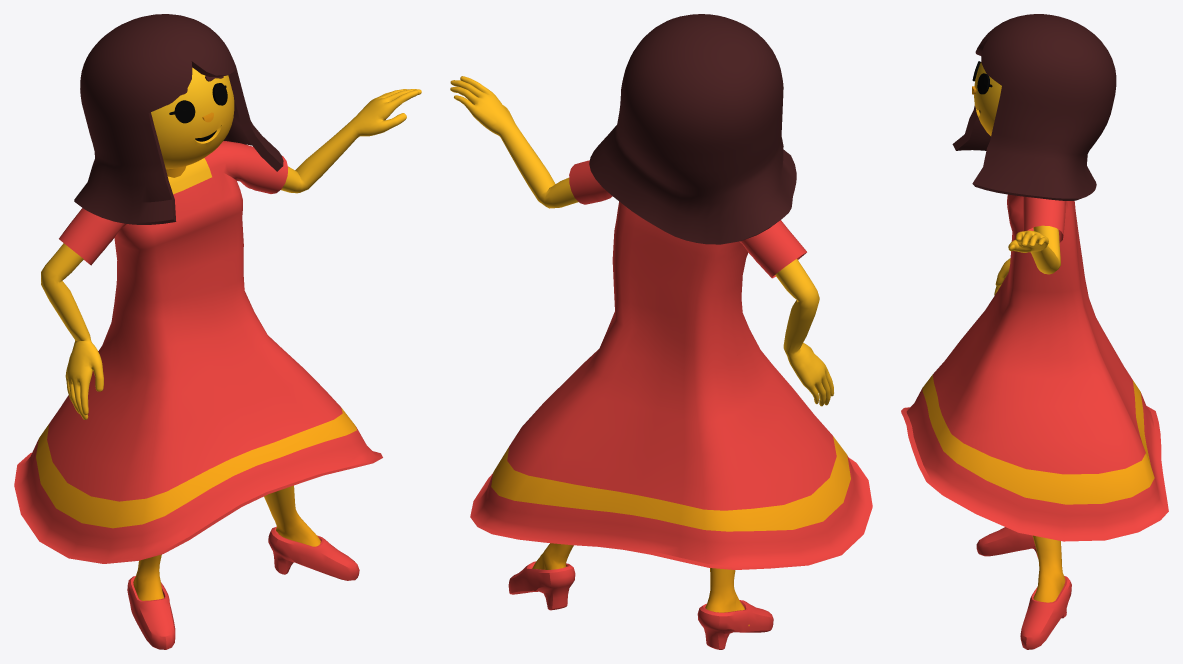
File: woman_dancing.fbx
3 renders of one model, left to right at view 1: azimuth 30°, elevation 25°; view 2: azimuth 150°, elevation 25°; view 3: azimuth 270°, elevation 25°, orthographic. The views are drawn at different scales.
Parts seen in each view (by area): view 1: Circle.1248, Roundcube.276, Roundcube.275, Cube.3290, Cube.3289, Circle.1249; view 2: Circle.1248, Roundcube.276, Cube.3289, Cube.3290; view 3: Circle.1248, Roundcube.276, Cube.3290, Cube.3289, Roundcube.275.
Boxes of the visible parts, x1=… form: Circle.1248: x1=14, y1=89, x2=421, y2=613; Roundcube.276: x1=74, y1=14, x2=283, y2=224; Roundcube.275: x1=151, y1=67, x2=234, y2=177; Cube.3290: x1=268, y1=526, x2=359, y2=580; Cube.3289: x1=127, y1=576, x2=175, y2=649; Circle.1249: x1=174, y1=83, x2=227, y2=123; Circle.1248: x1=450, y1=76, x2=872, y2=625; Roundcube.276: x1=589, y1=14, x2=796, y2=244; Cube.3289: x1=697, y1=600, x2=773, y2=649; Cube.3290: x1=508, y1=561, x2=575, y2=610; Circle.1248: x1=901, y1=194, x2=1168, y2=602; Roundcube.276: x1=952, y1=14, x2=1116, y2=200; Cube.3290: x1=1020, y1=576, x2=1071, y2=649; Cube.3289: x1=976, y1=527, x2=1038, y2=558; Roundcube.275: x1=974, y1=62, x2=1001, y2=135.
Bounding box in the file's own units: 148 × 223 × 99.4.
2 materials, 2 textured.
